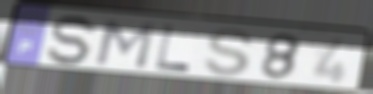4: (310, 36, 352, 87)
8: (259, 32, 304, 81)
L: (153, 24, 193, 73)
M: (92, 18, 157, 71)
S: (45, 14, 102, 67), (202, 27, 257, 79)
